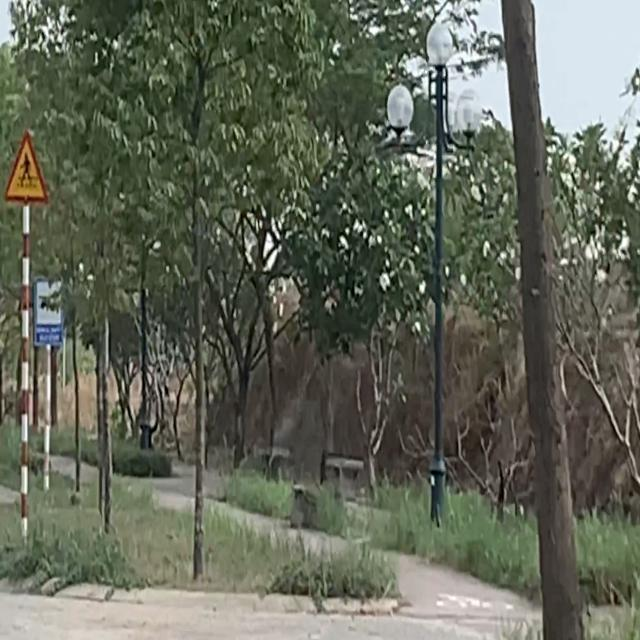Nguoi di bo cat ngang: (0, 125, 50, 209)
